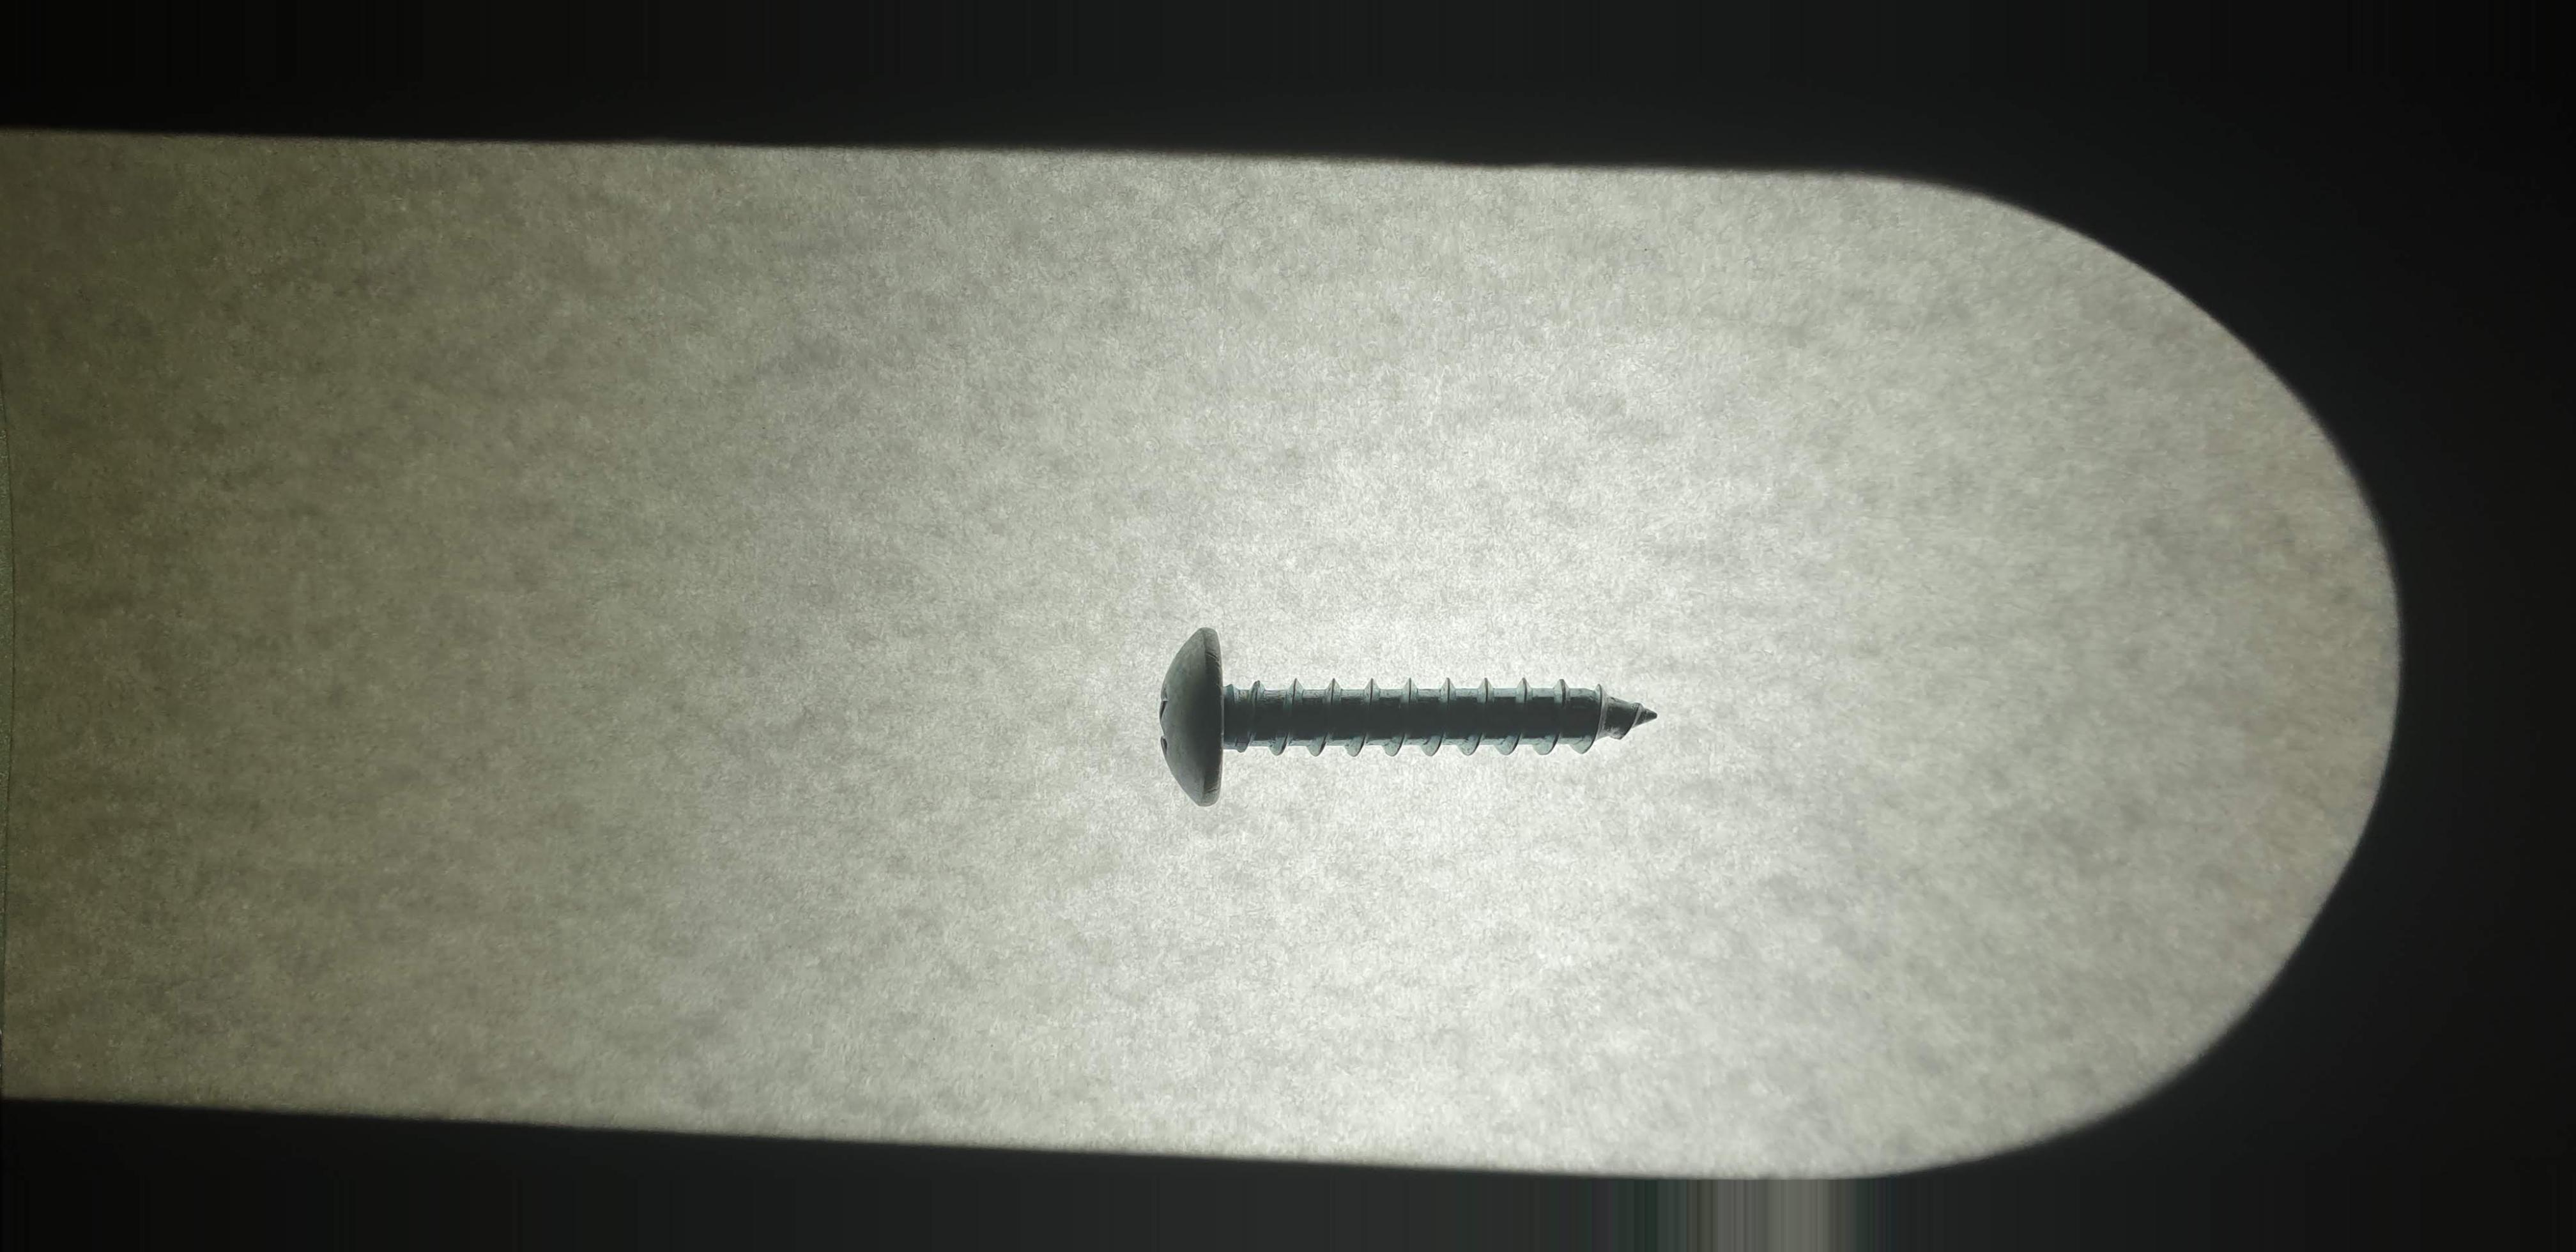S002: (1096, 598, 1709, 853)
